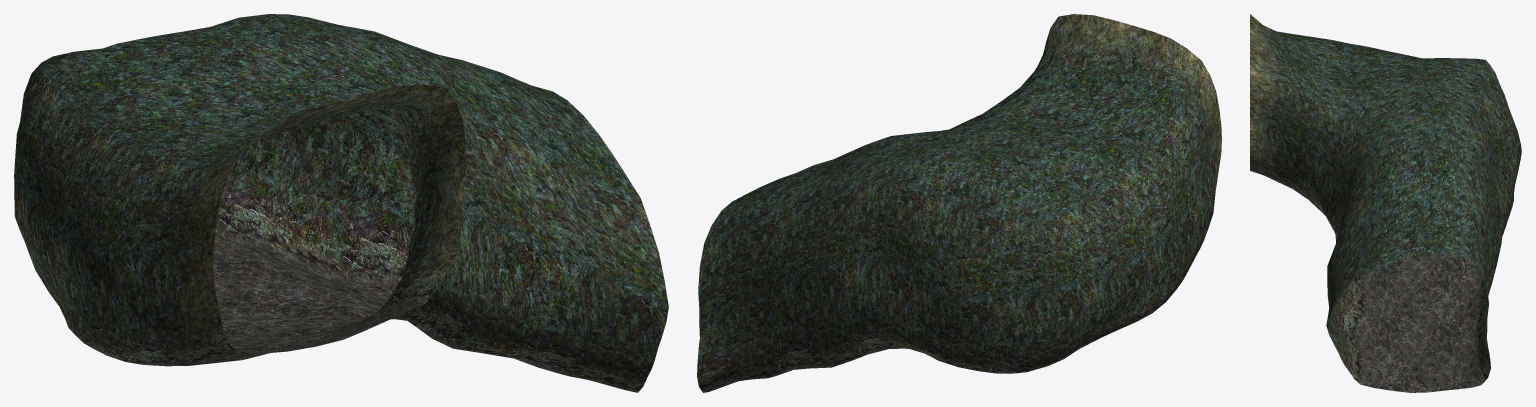
Rendered from thm_all_cave_s01_damprock_mirror_r10_mesh_r10.fbx.
3 views of the same model, side by side, from view 1: azimuth 30°, elevation 25°; view 2: azimuth 150°, elevation 25°; view 3: azimuth 270°, elevation 25° (orthographic). The views are drawn at different scales.
Parts seen in each view (by area): view 1: mesh_node; view 2: mesh_node; view 3: mesh_node.
Part boxes in pixels (x1=…): mesh_node: x1=14, y1=14, x2=668, y2=392; mesh_node: x1=697, y1=14, x2=1221, y2=392; mesh_node: x1=1250, y1=14, x2=1521, y2=392.
Bounding box in the file's own units: 50.15 × 41.09 × 38.79.
